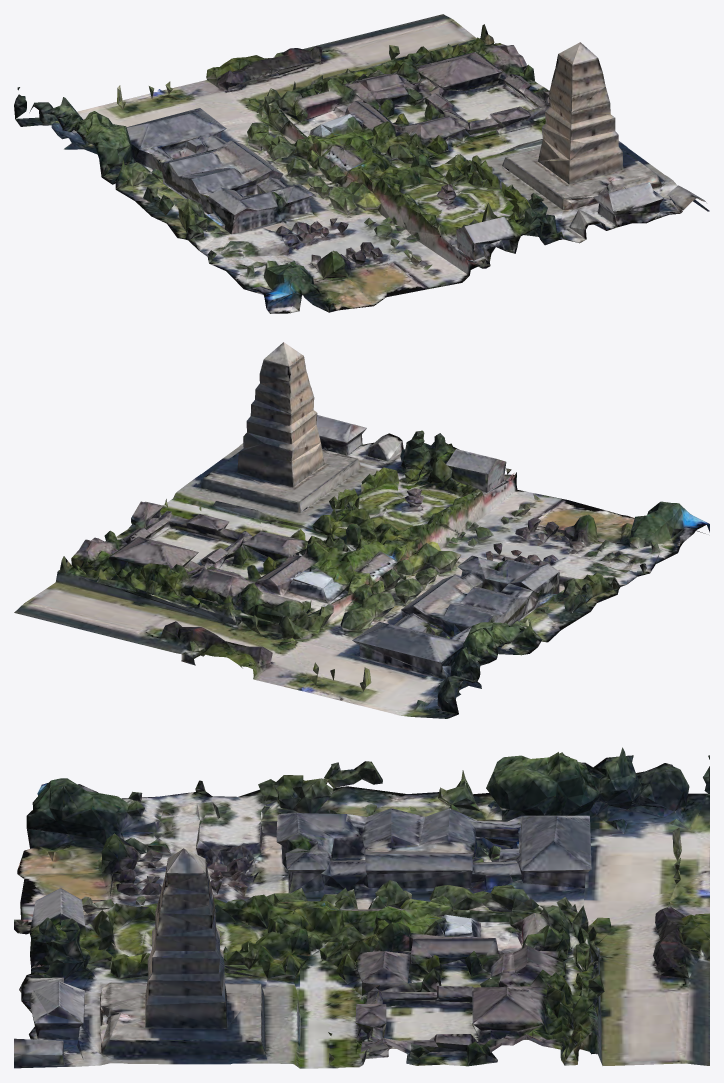
3 renders of one model, top to bottom at view 1: azimuth 30°, elevation 25°; view 2: azimuth 150°, elevation 25°; view 3: azimuth 270°, elevation 25°, orthographic. The views are drawn at different scales.
Bounding box in the file's own units: 200 × 67.92 × 214.
Materials: 1 (1 with a texture image).
